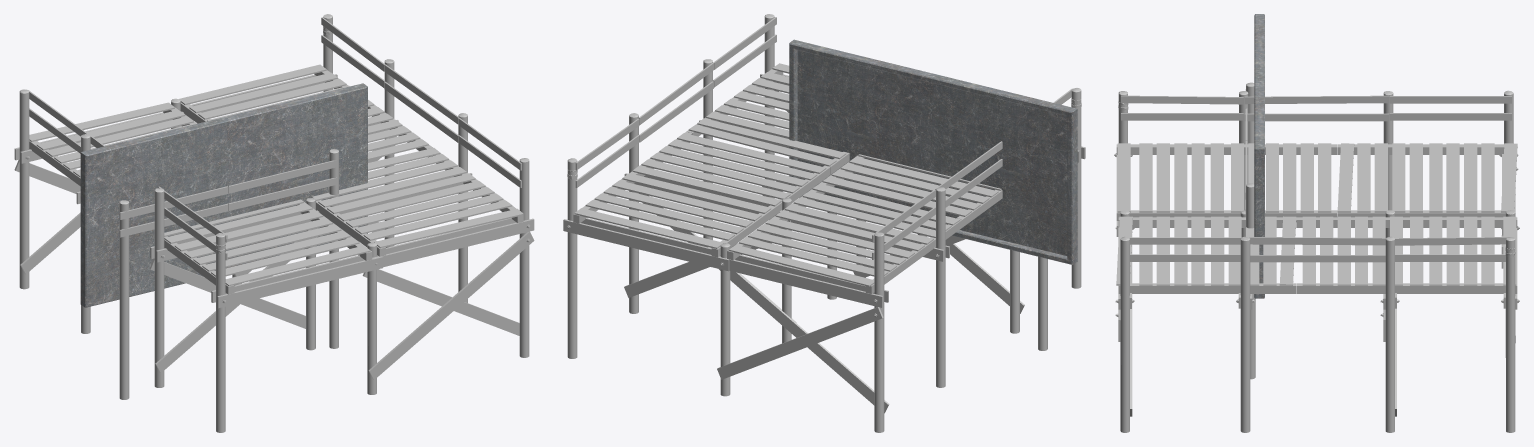
The model's file is Platform_Billboard.fbx.
The picture shows the model from 3 angles, left to right: view 1: azimuth 30°, elevation 25°; view 2: azimuth 150°, elevation 25°; view 3: azimuth 270°, elevation 25°; orthographic projection. The views are drawn at different scales.
Visible parts, largest first — view 1: Pier_Bog, Billboard, Billboard_Stand; view 2: Pier_Bog, Billboard, Billboard_Stand; view 3: Pier_Bog, Billboard, Billboard_Stand.
Part boxes in pixels (bbox=[...]): Pier_Bog: bbox=[14, 14, 534, 432]; Billboard: bbox=[80, 83, 367, 307]; Billboard_Stand: bbox=[119, 149, 338, 399]; Pier_Bog: bbox=[563, 14, 1085, 432]; Billboard: bbox=[789, 39, 1077, 264]; Billboard_Stand: bbox=[827, 212, 1047, 350]; Pier_Bog: bbox=[1114, 90, 1519, 432]; Billboard: bbox=[1254, 14, 1264, 298]; Billboard_Stand: bbox=[1245, 82, 1255, 379].
Bounding box in the file's own units: 849 × 534 × 802.
